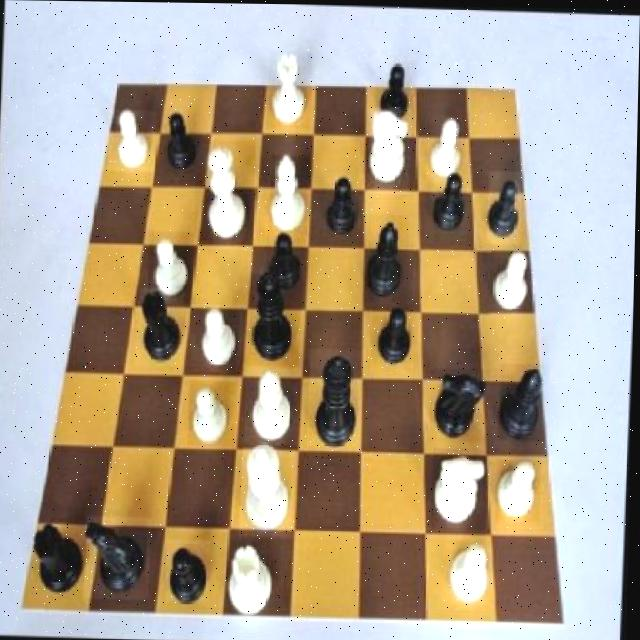bishop: (363, 214, 412, 302), (499, 361, 551, 439)
black-bishop: (309, 347, 365, 446)
black-king: (87, 515, 154, 600), (432, 365, 491, 441)
black-knight: (430, 162, 471, 234), (374, 301, 422, 362), (169, 539, 214, 603), (162, 109, 206, 174), (266, 231, 307, 298), (322, 173, 363, 238), (488, 169, 523, 243), (375, 60, 416, 119)
black-pawn: (245, 272, 303, 365)
black-queen: (32, 511, 93, 598), (138, 286, 186, 366)
black-rook: (246, 367, 303, 445), (270, 154, 311, 235)
white-bishop: (241, 446, 299, 537)
white-king: (433, 447, 491, 528), (368, 106, 412, 190)
white-knight: (193, 302, 244, 372), (491, 247, 542, 317), (149, 231, 199, 302), (189, 379, 239, 447), (426, 114, 472, 184), (444, 542, 495, 604), (108, 109, 156, 172), (497, 457, 543, 520)
white-pawn: (195, 139, 256, 243)
white-queen: (231, 541, 284, 617), (267, 49, 313, 127)
